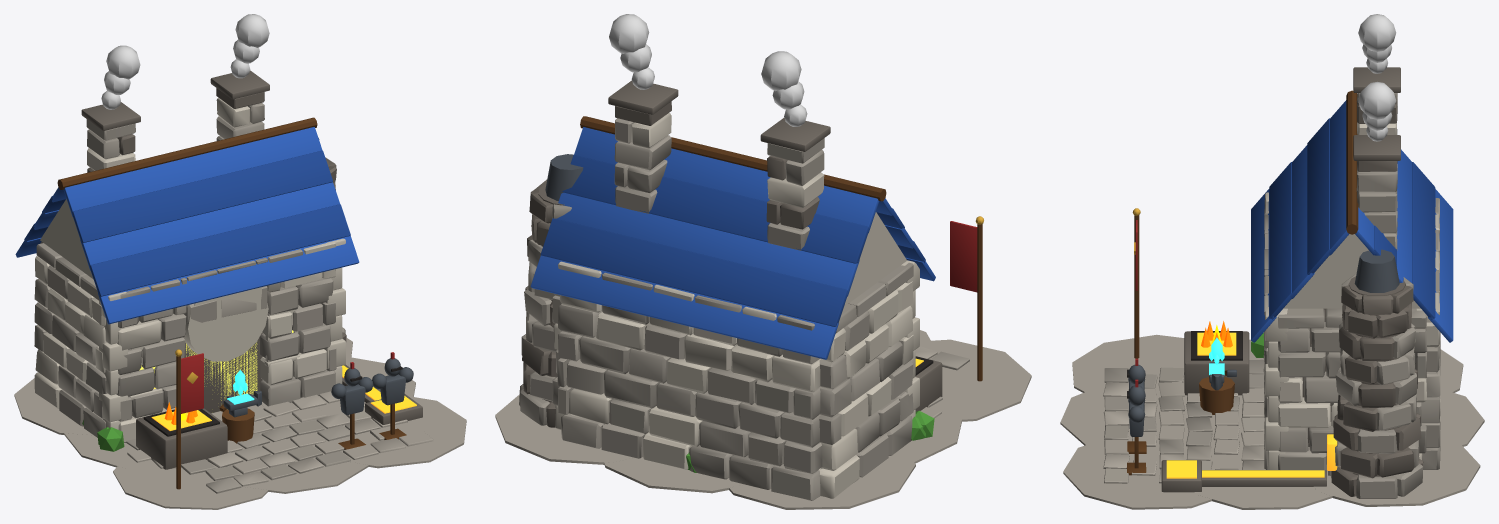
Rendered from kuznia_poz18.glb.
3 renders of one model, left to right at view 1: azimuth 30°, elevation 25°; view 2: azimuth 150°, elevation 25°; view 3: azimuth 270°, elevation 25°, orthographic. The views are drawn at different scales.
Parts seen in each view (by area): view 1: kuznia_poz18; view 2: kuznia_poz18; view 3: kuznia_poz18.
Boxes of the visible parts, <box> form: kuznia_poz18: <box>14,14,466,509</box>; kuznia_poz18: <box>495,14,1031,509</box>; kuznia_poz18: <box>1060,14,1484,509</box>.
Size of the model in its own units: 8.18 by 8.37 by 8.46.
